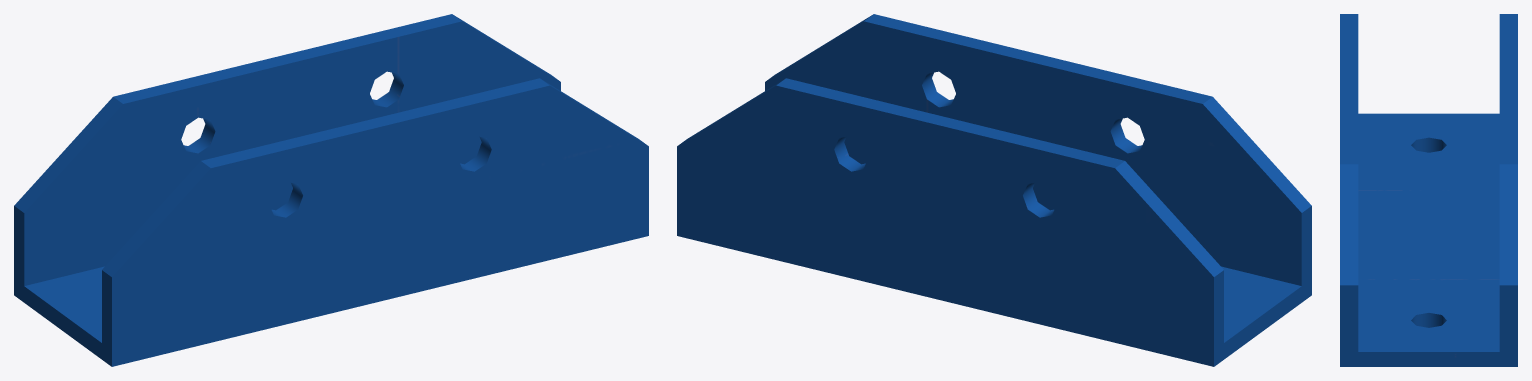
File: Uxingdizuo.FBX
3 renders of one model, left to right at view 1: azimuth 30°, elevation 25°; view 2: azimuth 150°, elevation 25°; view 3: azimuth 270°, elevation 25°, orthographic. The views are drawn at different scales.
Parts seen in each view (by area): view 1: Uxingdizuo; view 2: Uxingdizuo; view 3: Uxingdizuo.
Boxes of the visible parts, box(x1,y1,x2,y2) form: Uxingdizuo: box(14, 14, 648, 366); Uxingdizuo: box(677, 14, 1311, 366); Uxingdizuo: box(1340, 14, 1517, 366).
Bounding box in the file's own units: 19.24 × 5.98 × 6.07.
Materials: 1 (1 with a texture image).
